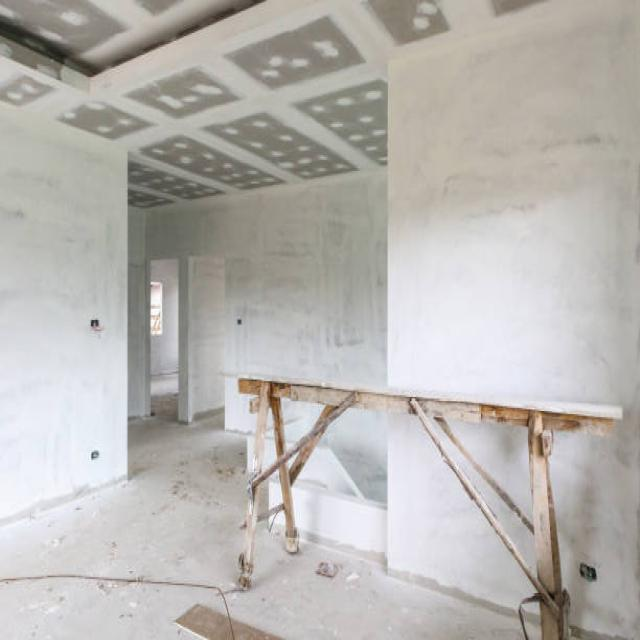floor: (0, 366, 525, 640)
wall: (388, 0, 640, 410), (144, 169, 389, 437), (0, 111, 128, 544), (387, 414, 539, 619), (546, 409, 640, 640), (426, 418, 538, 580), (446, 418, 531, 521), (328, 410, 388, 503), (192, 258, 225, 414), (127, 206, 146, 421), (150, 258, 179, 372), (280, 400, 327, 454), (522, 603, 542, 627)
